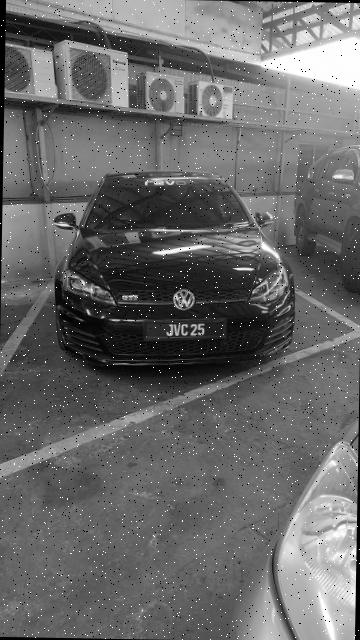License_Plate: (149, 316, 221, 344)
car: (45, 165, 305, 390)
